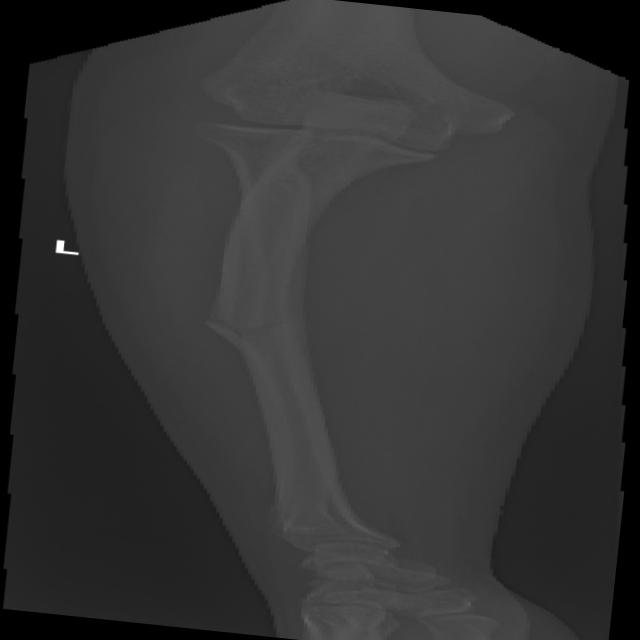forearm fracture: (147, 299, 364, 385)
